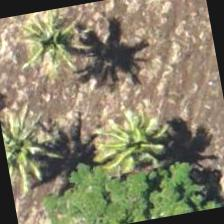Kelapa_Sawit: (87, 93, 191, 197), (0, 2, 101, 90), (0, 93, 69, 193)
